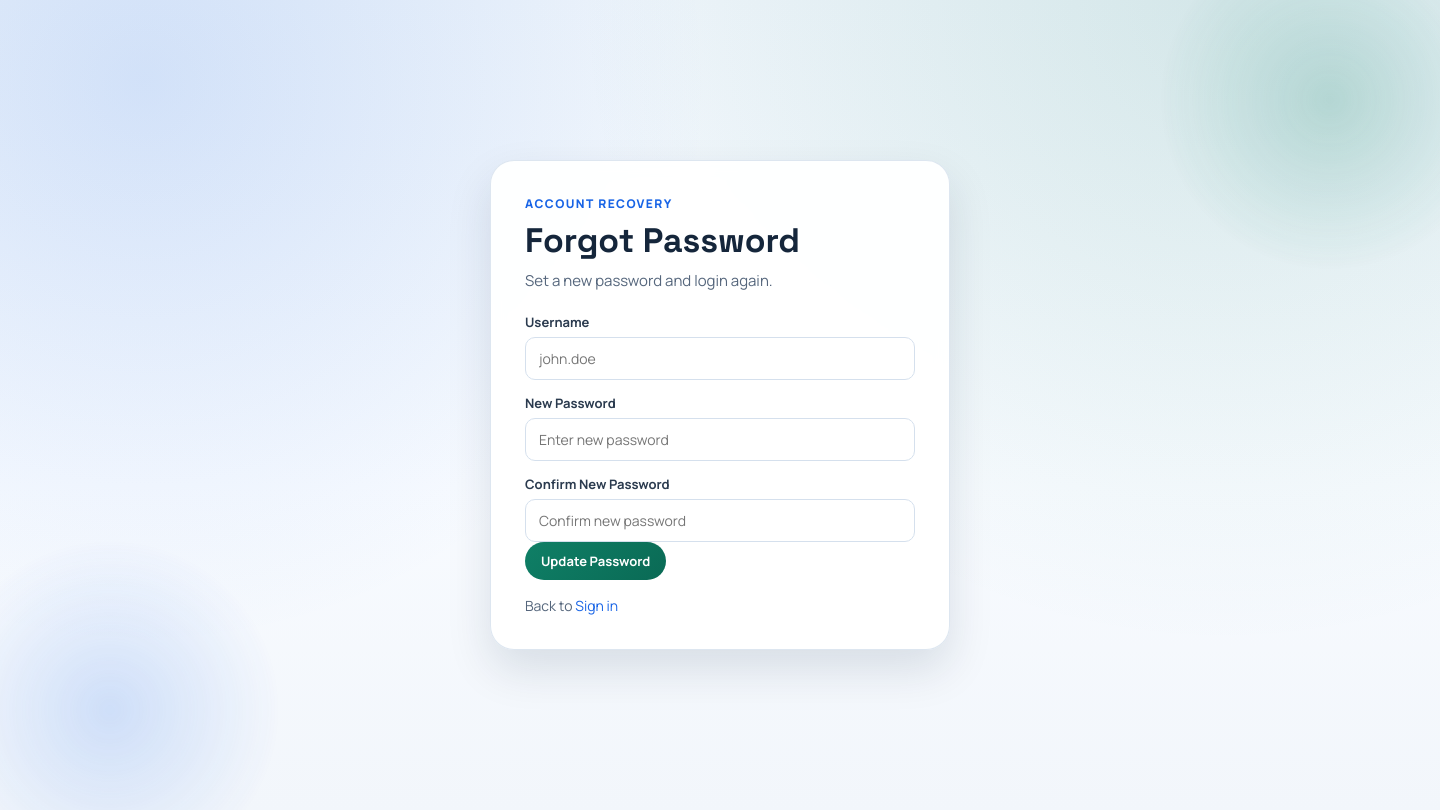
shows validation error when passwords do not match
Type "jane" into the field labelled "Username" at (720, 358), box [525,337,915,380]
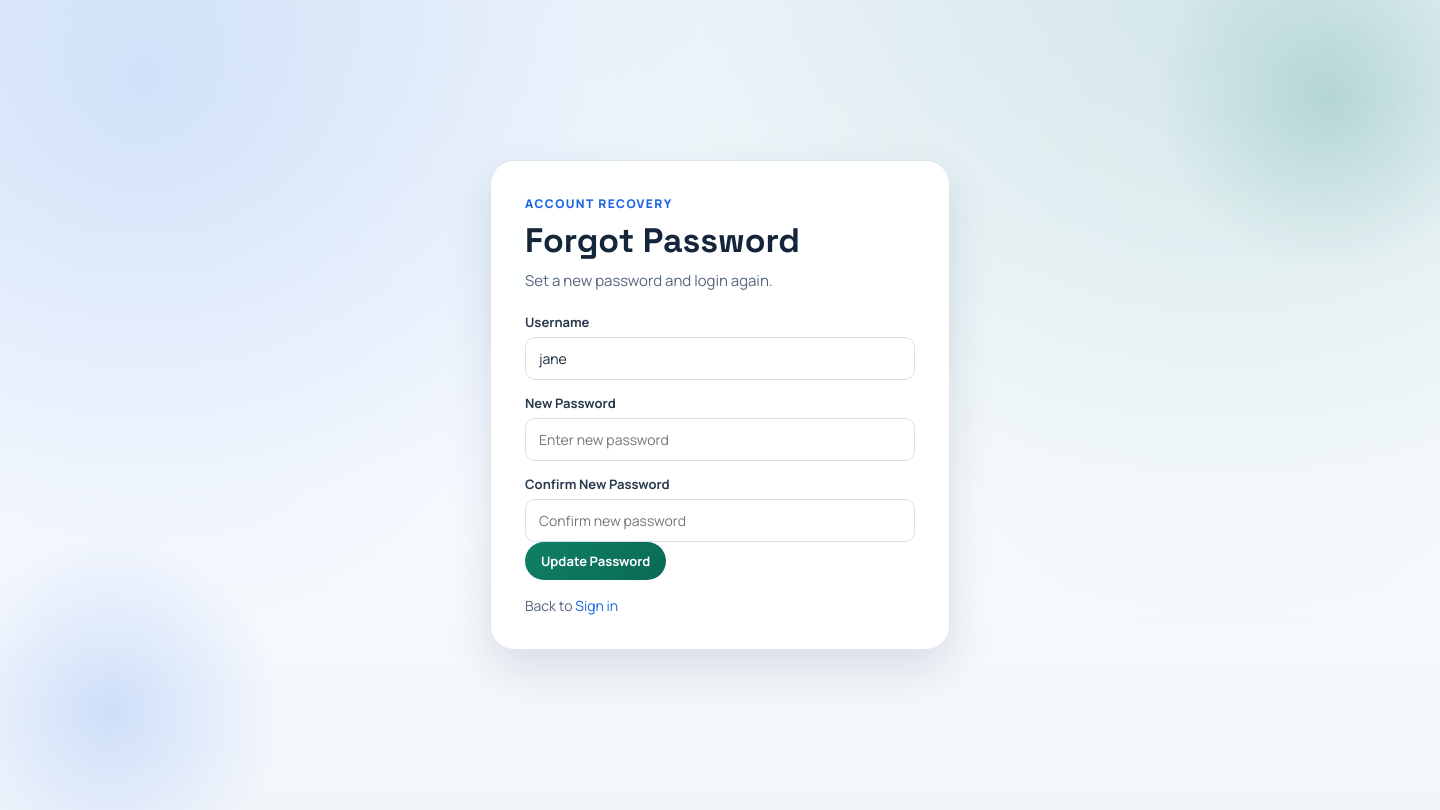
Type "newpass1" into the password field labelled "New Password" at (720, 439), box [525,418,915,461]
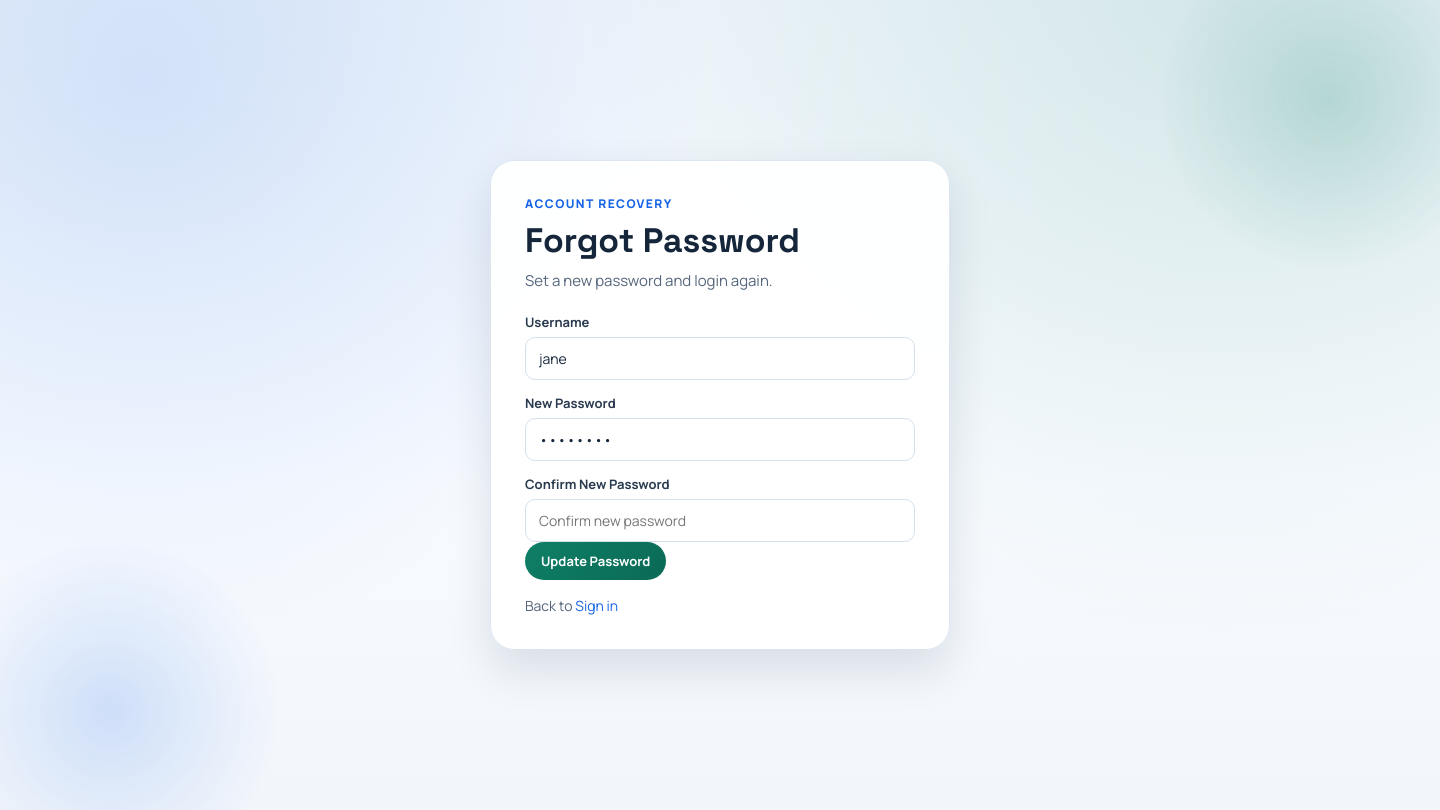
Type "different" into the password field labelled "Confirm New Password" at (720, 520), box [525,499,915,542]
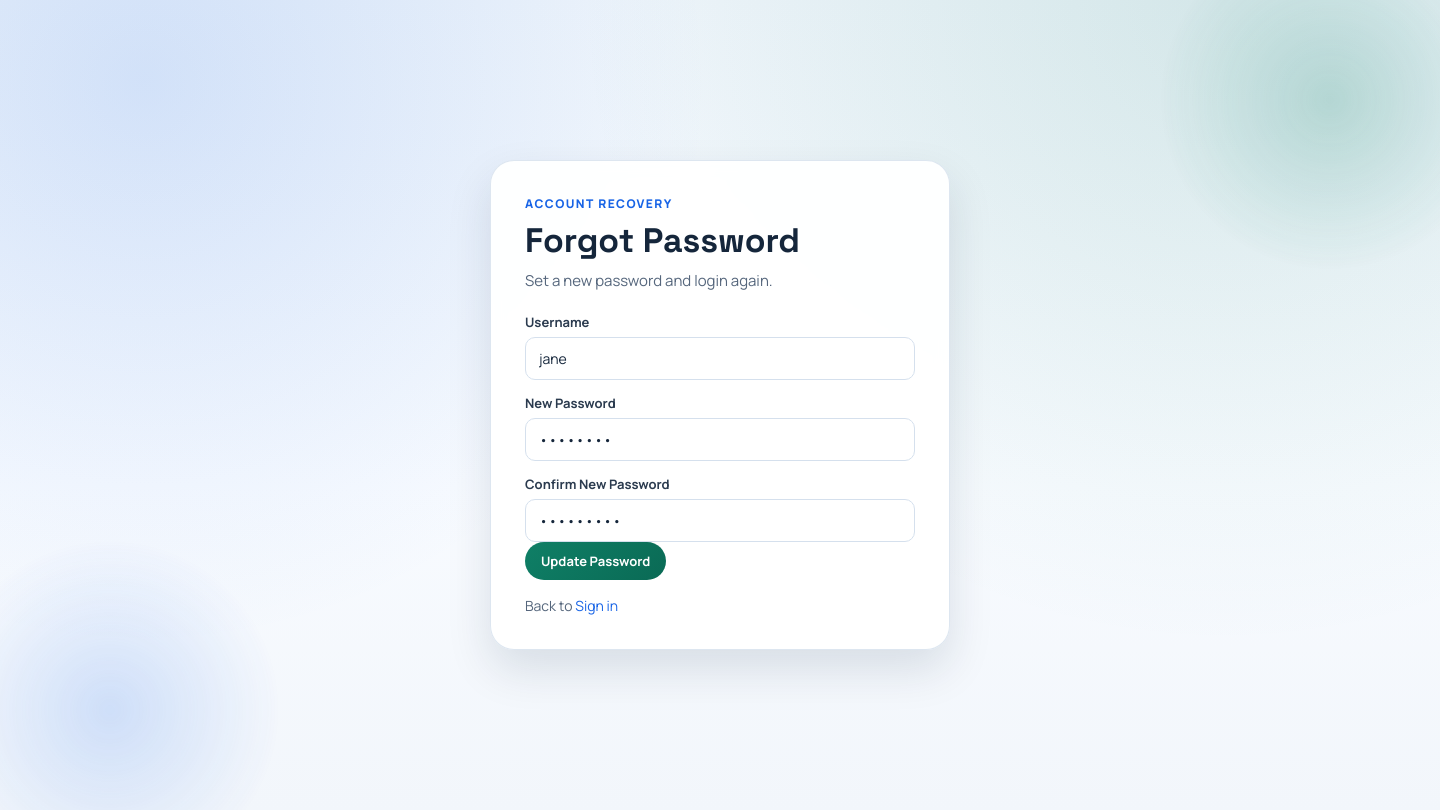
Click the button "Update Password" at (596, 561), box [525,542,666,580]
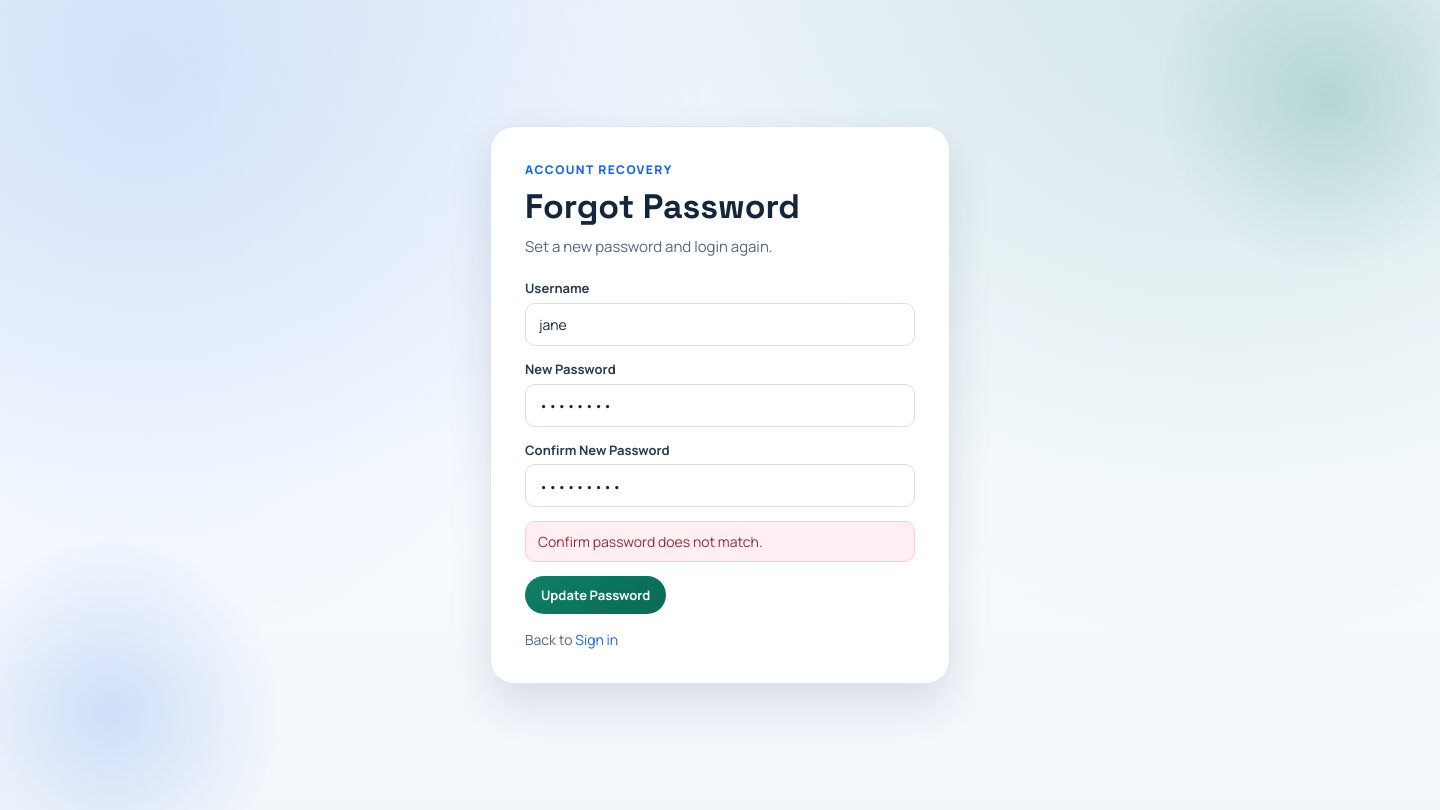
Result: the text "Confirm password does not match." is shown at [525,521,915,562]
